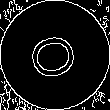O_E: (25, 27, 85, 83)
